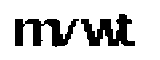m: (12, 16, 59, 49)
t: (116, 12, 140, 56)
v: (48, 17, 77, 51)
w: (81, 17, 120, 49)
